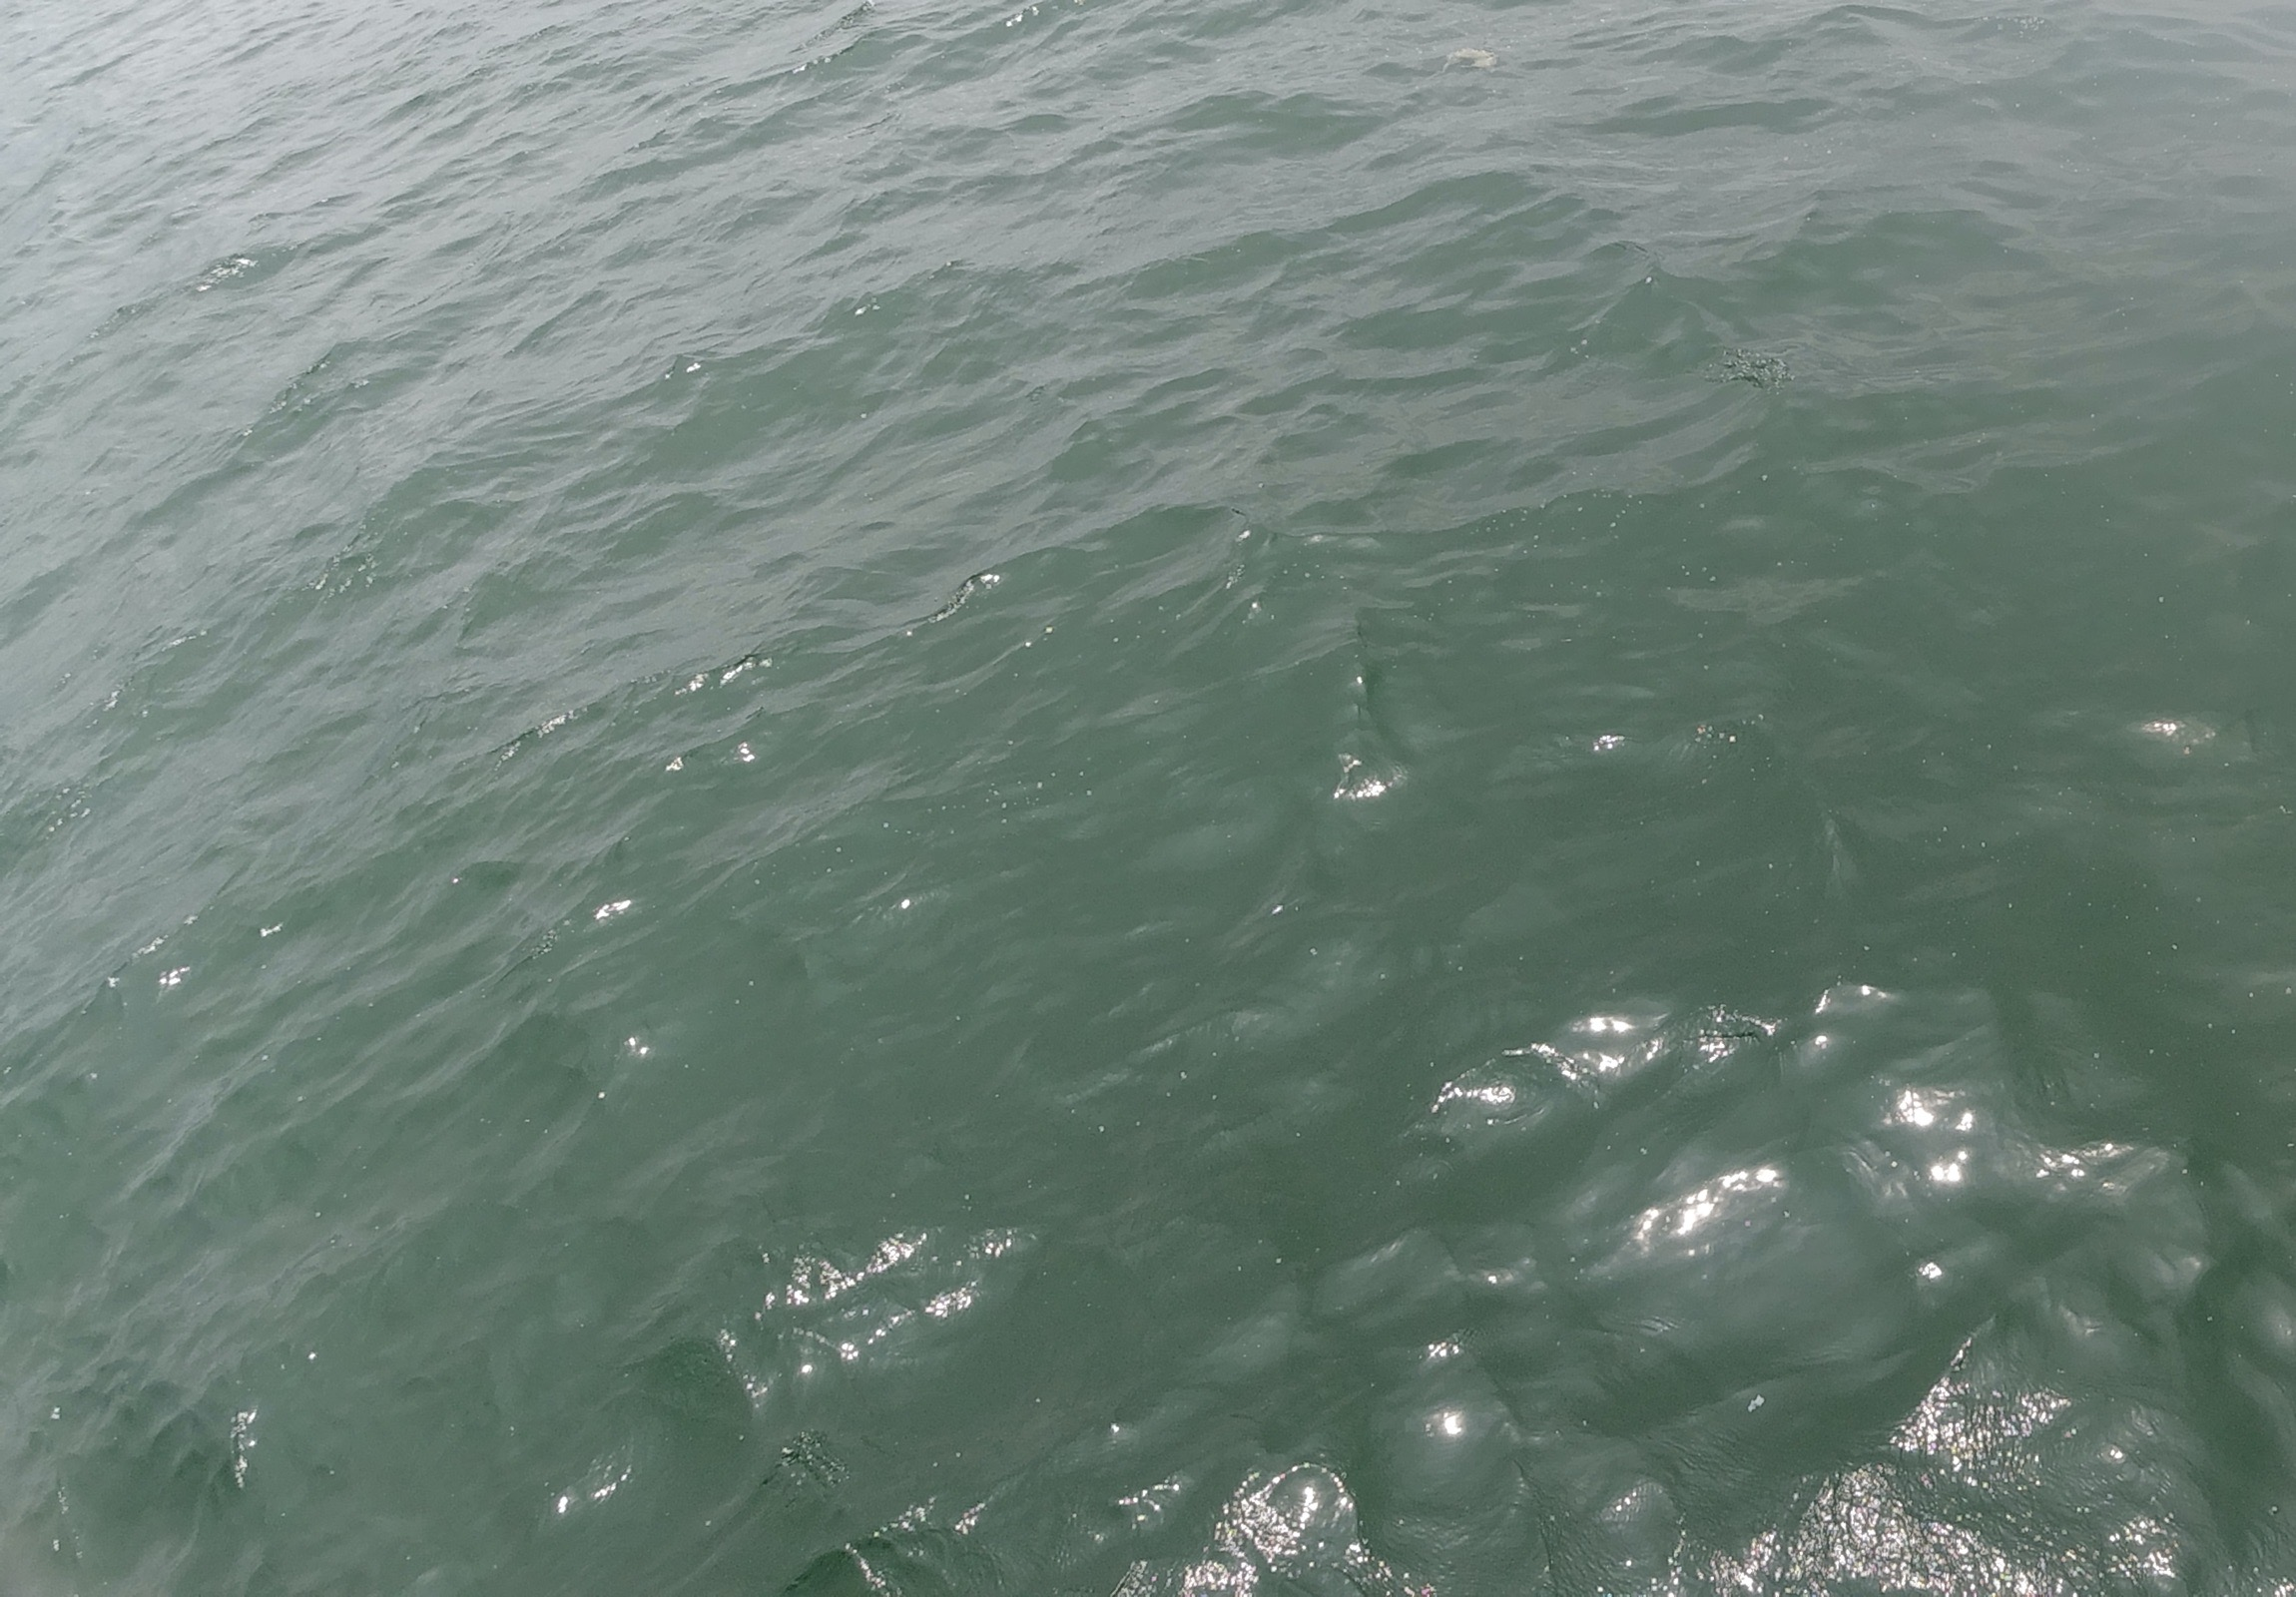plastic: (1415, 40, 1509, 89)
